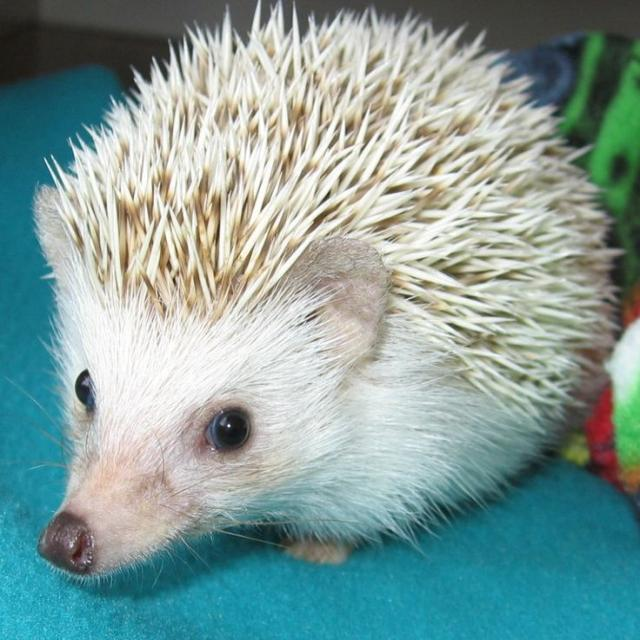Hedgehog: (34, 6, 612, 582)
